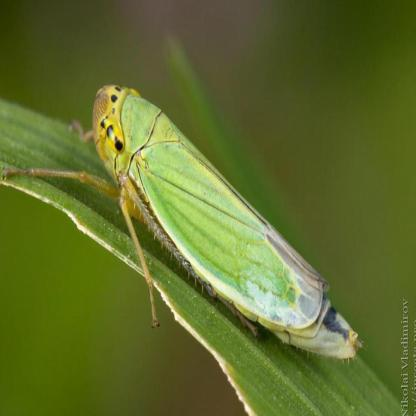Green-Leafhopper: (8, 82, 366, 364)
